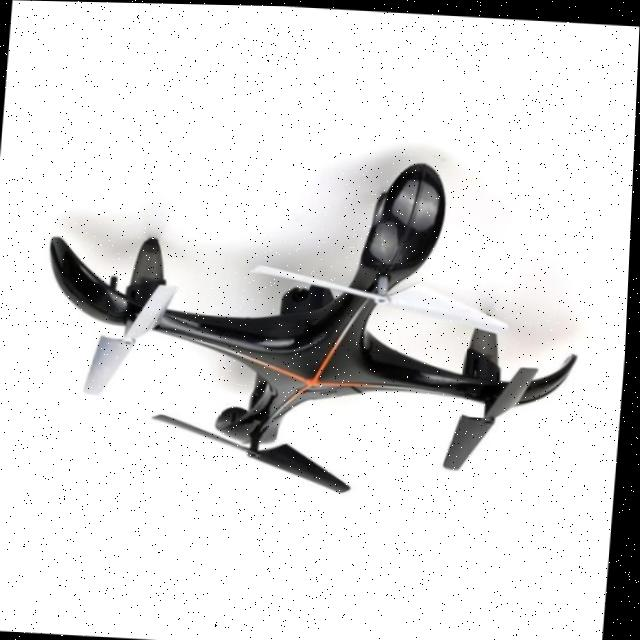drones: (12, 106, 613, 529)
